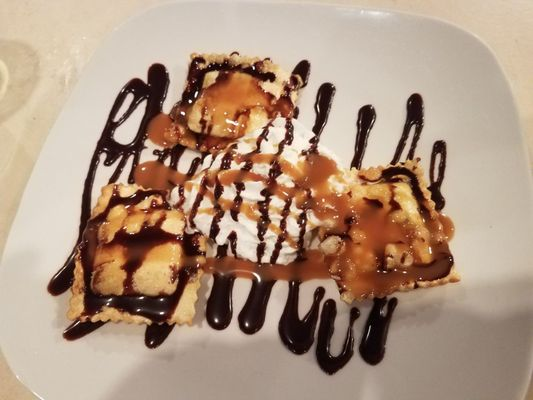sandwich: (43, 74, 156, 294)
